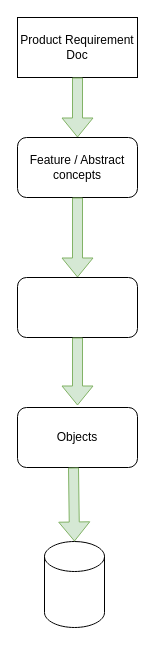
This 155x645 diagram has some shape labels left out. Here are the shapes that lost their labels. From the top down, the centre of each, then its label:
At point (77, 307): "Data Defination".
At point (74, 584): "DataBase".
